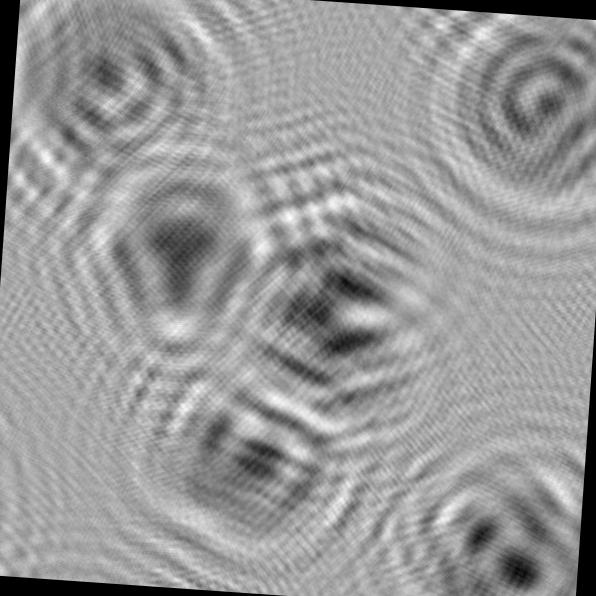A: (202, 170, 464, 466), (41, 115, 296, 396)
D: (399, 7, 596, 239)
F: (102, 332, 373, 594)
R: (380, 434, 586, 596)
U: (6, 0, 254, 224)
